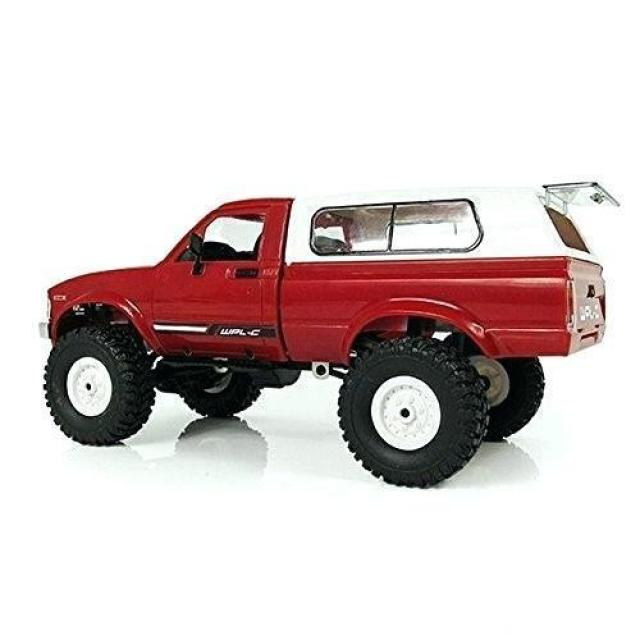Tanks: (30, 192, 613, 486)
